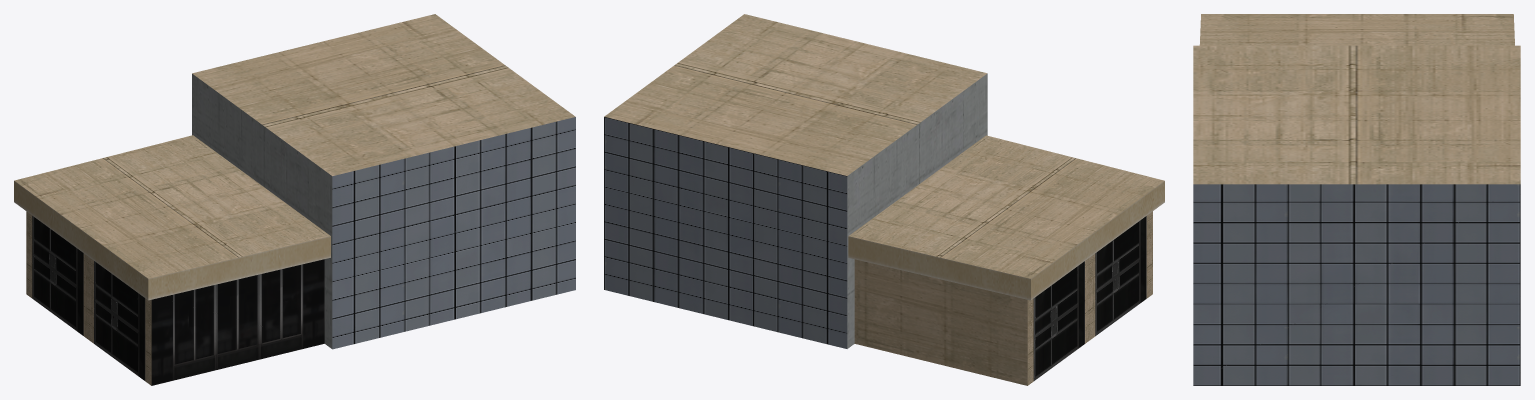
Rendered from Modern Building 13.FBX.
The picture shows the model from 3 angles, left to right: view 1: azimuth 30°, elevation 25°; view 2: azimuth 150°, elevation 25°; view 3: azimuth 270°, elevation 25°; orthographic projection. The views are drawn at different scales.
Visible parts, largest first — view 1: Modern Building 13; view 2: Modern Building 13; view 3: Modern Building 13.
Part boxes in pixels (x1,y1,x2,y2): Modern Building 13: (14, 14, 575, 385); Modern Building 13: (604, 14, 1164, 385); Modern Building 13: (1193, 14, 1520, 385).
Size of the model in its own units: 1107 by 432 by 635.
